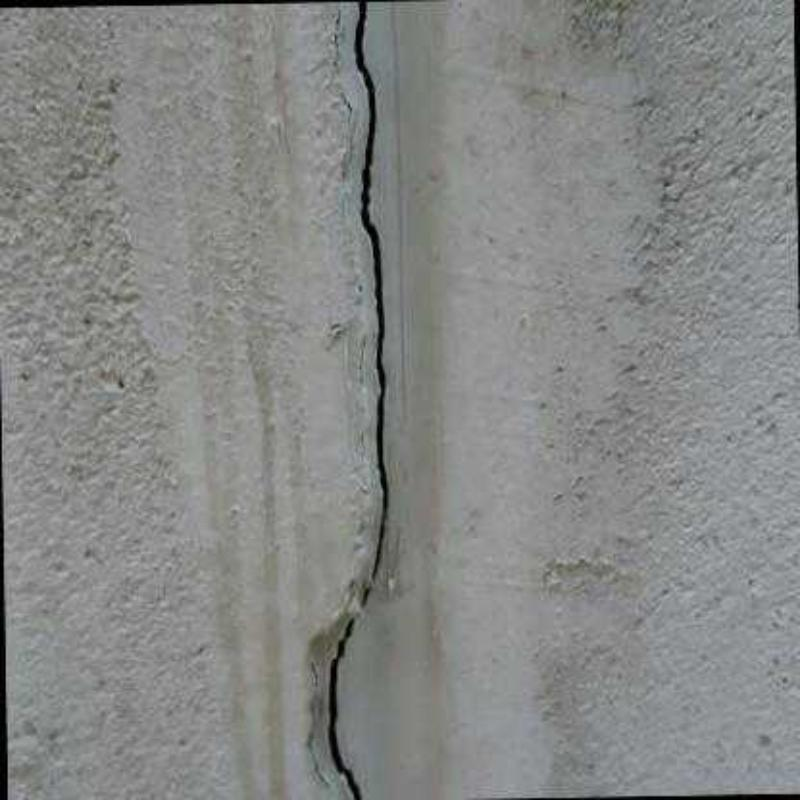pothole: (328, 2, 390, 800)
